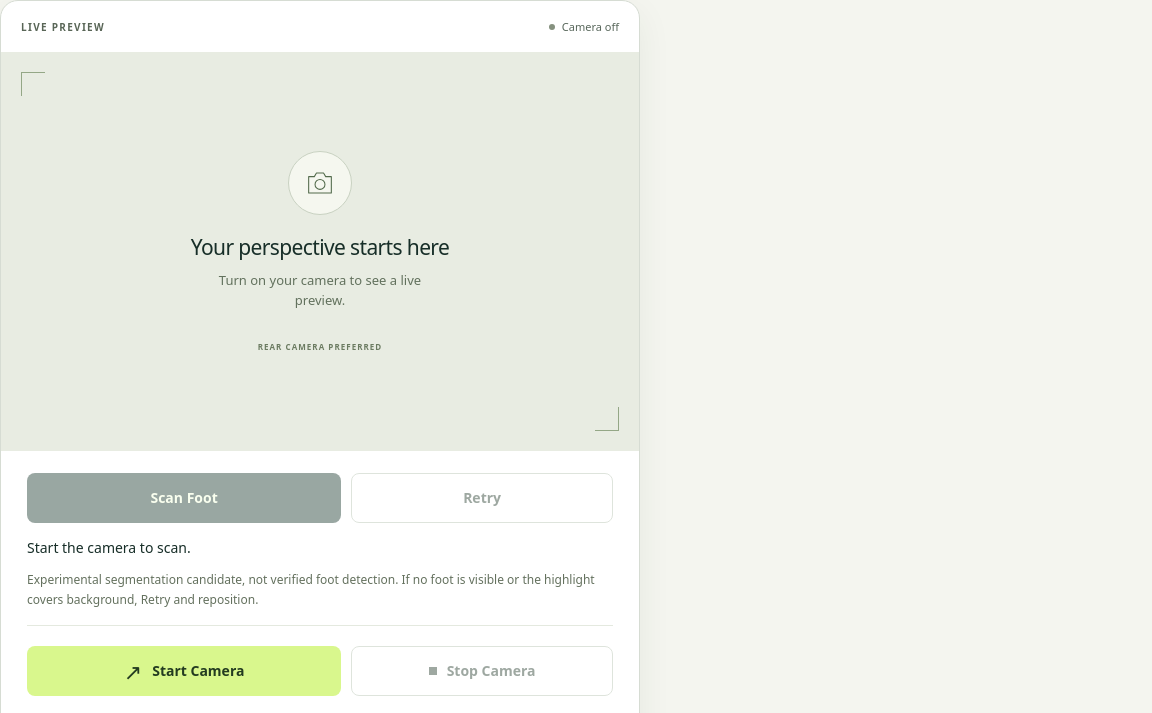
Scenario: CameraPreview › explains NotReadableError and permits retry
Click the button "↗ Start Camera": (184, 671) [27,646,341,696]
(page scrolled)
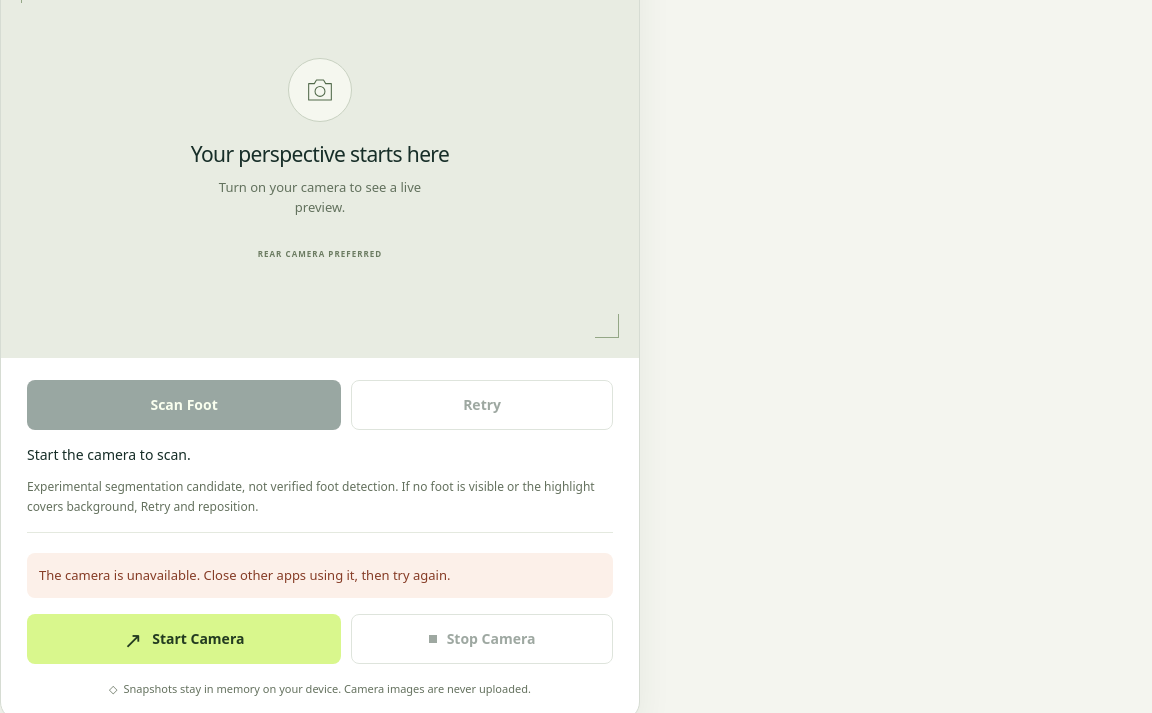
Expected: the button "↗ Start Camera" is enabled, [27,614,341,664]
Result: the message "The camera is unavailable. Close other apps using it, then try again." is shown at [27,553,613,598]
